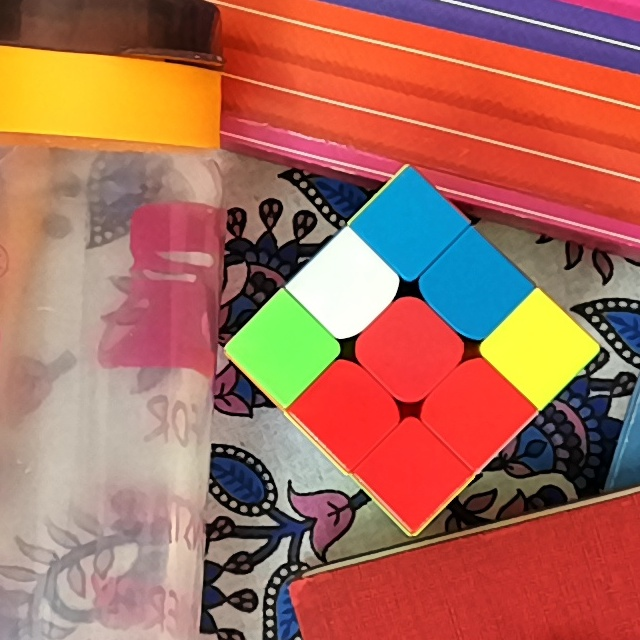tile: (380, 319, 439, 377), (446, 380, 504, 438), (511, 323, 570, 379), (254, 322, 312, 378), (385, 444, 441, 500), (446, 263, 502, 318), (380, 200, 437, 254), (318, 260, 373, 315), (324, 386, 378, 438)
